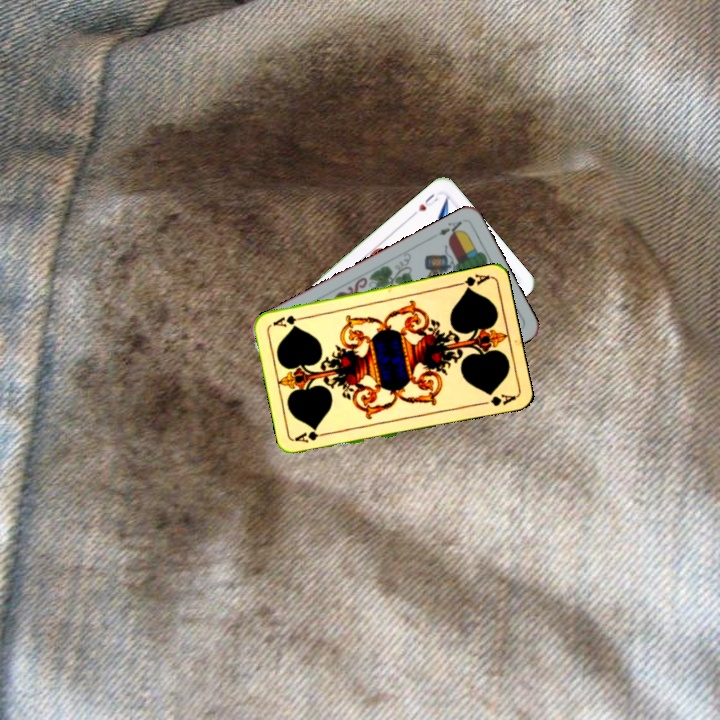EA: (434, 217, 466, 241)
GA: (452, 270, 492, 293), (291, 428, 332, 445)
HU: (408, 190, 441, 219)
